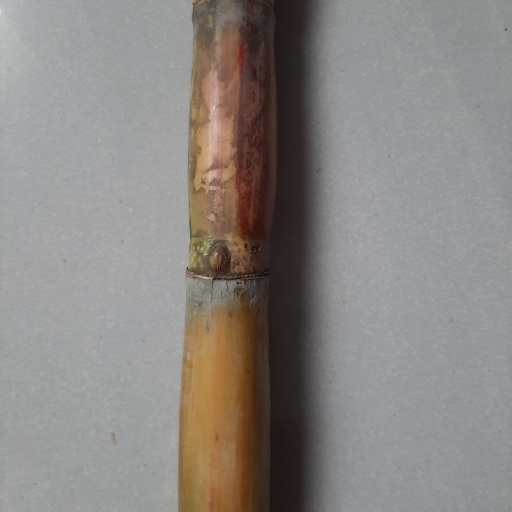Bud: (207, 242, 231, 277)
